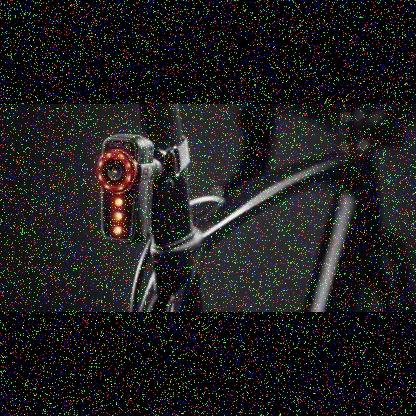Bicycle: (84, 91, 416, 312)
